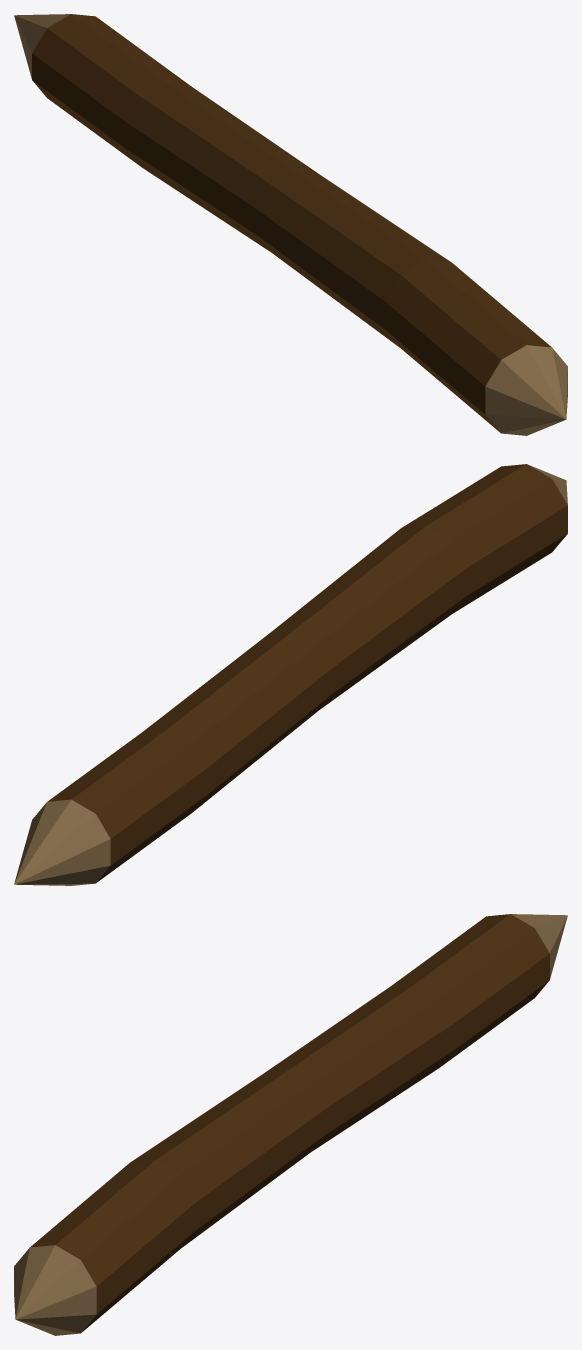
Rendered from Wooden_Log_01.fbx.
3 views of the same model, one above another, from view 1: azimuth 30°, elevation 25°; view 2: azimuth 150°, elevation 25°; view 3: azimuth 330°, elevation 25° (orthographic).
Parts seen in each view (by area): view 1: Wooden_Log_01; view 2: Wooden_Log_01; view 3: Wooden_Log_01.
Boxes of the visible parts, x1,y1,x2,y2 form: Wooden_Log_01: (14, 14, 567, 435); Wooden_Log_01: (14, 464, 567, 885); Wooden_Log_01: (14, 914, 567, 1335).
Bounding box in the file's own units: 35.98 × 42.64 × 417.
